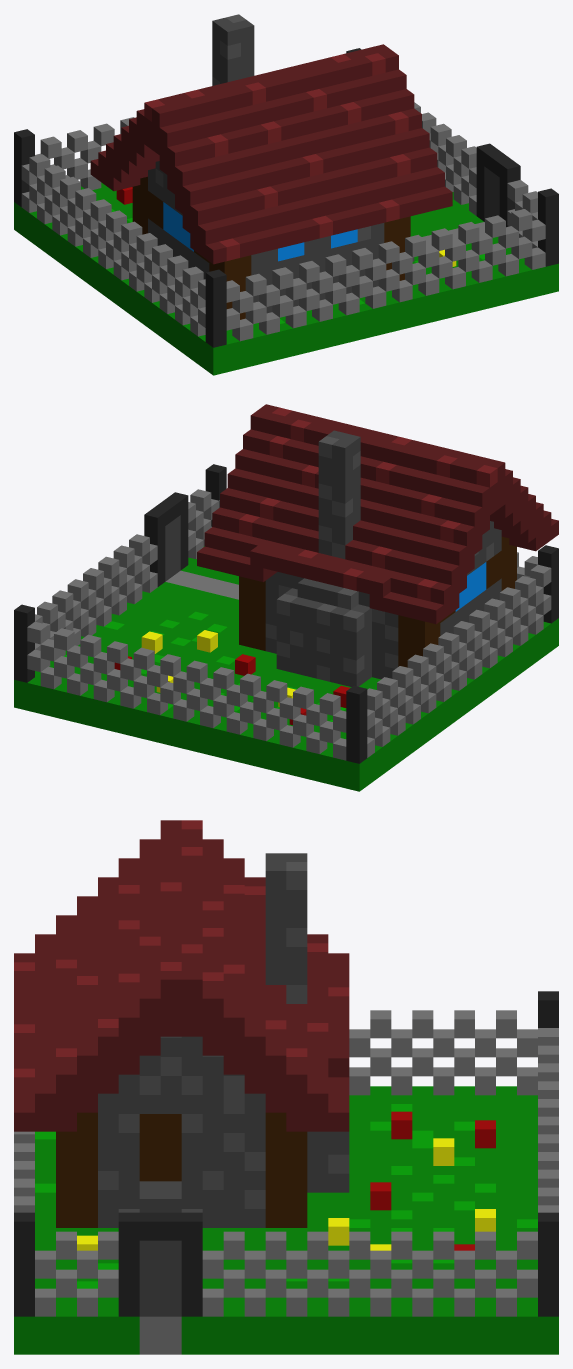
The model's file is house5.obj.
3 renders of one model, top to bottom at view 1: azimuth 30°, elevation 25°; view 2: azimuth 150°, elevation 25°; view 3: azimuth 270°, elevation 25°, orthographic. The views are drawn at different scales.
Bounding box in the file's own units: 2.6 × 1.8 × 2.6.
Materials: 1 (1 with a texture image).
